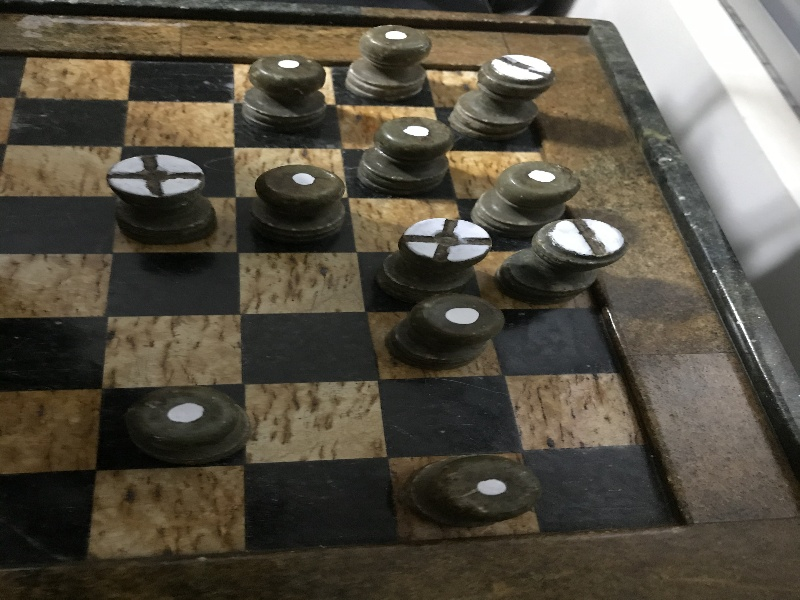WhiteBishop: (107, 153, 218, 243), (378, 217, 490, 297)
WhitePawn: (400, 456, 541, 526), (133, 386, 250, 464), (385, 294, 504, 370), (472, 162, 580, 234), (252, 165, 345, 245), (358, 117, 449, 194), (344, 25, 429, 99), (242, 56, 326, 130)
WhiteRook: (497, 218, 627, 303), (450, 54, 553, 140)
